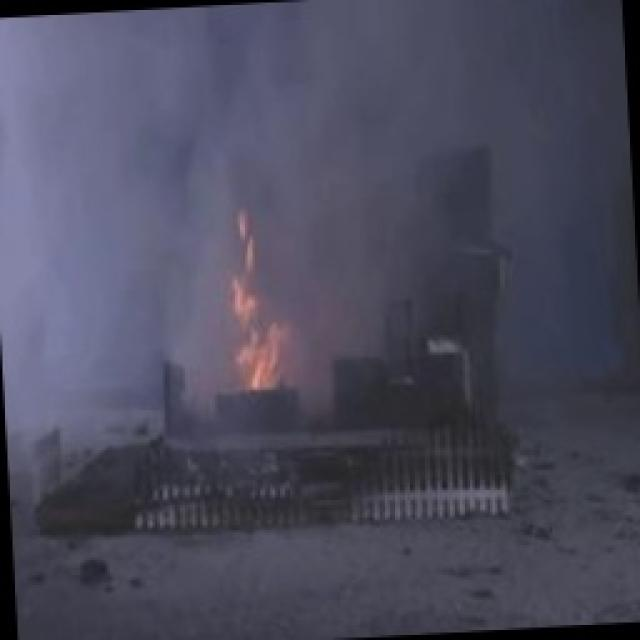fire: (196, 194, 319, 406)
smoke: (0, 0, 485, 265)
